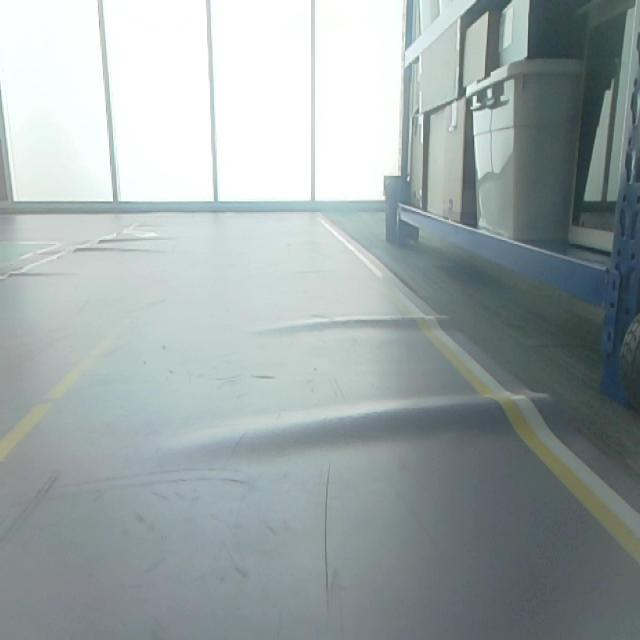left_lane: (0, 297, 137, 467)
right_lane: (325, 226, 640, 559)
